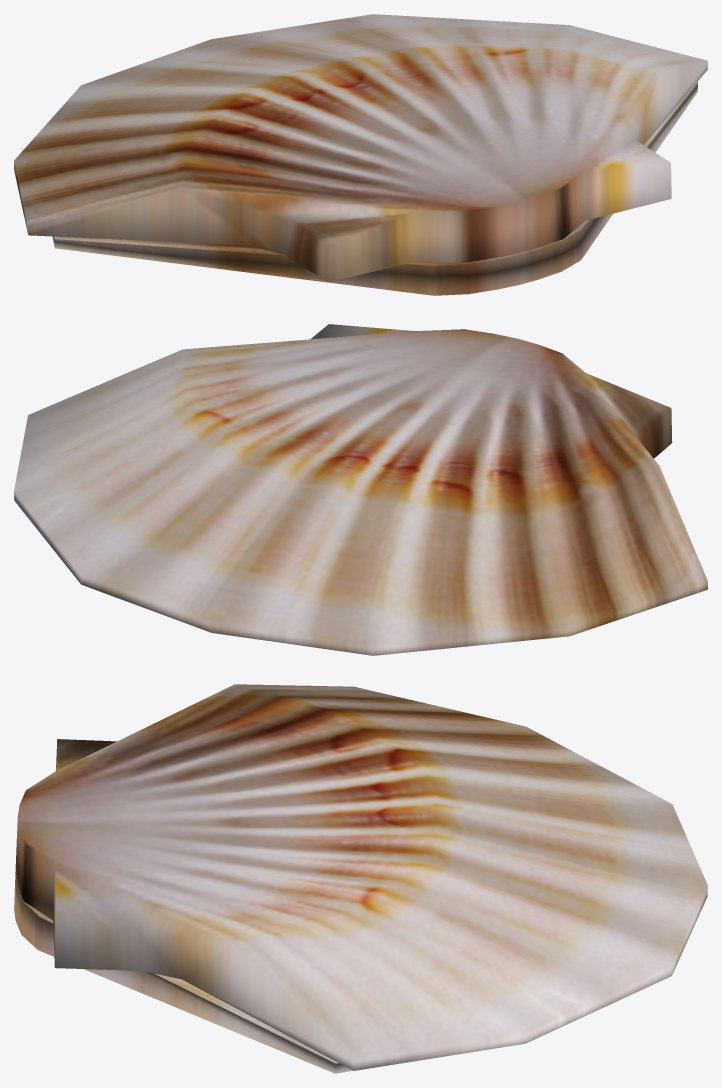
Rendered from sea_shell_1.fbx.
3 renders of one model, top to bottom at view 1: azimuth 30°, elevation 25°; view 2: azimuth 150°, elevation 25°; view 3: azimuth 270°, elevation 25°, orthographic. The views are drawn at different scales.
Visible parts, largest first — view 1: sea_shell_1_mesh; view 2: sea_shell_1_mesh; view 3: sea_shell_1_mesh.
Boxes of the visible parts, <box> form: sea_shell_1_mesh: <box>14,14,707,295</box>; sea_shell_1_mesh: <box>14,324,707,655</box>; sea_shell_1_mesh: <box>14,684,707,1073</box>.
Bounding box in the file's own units: 0.3048 × 0.0358 × 0.2388.
